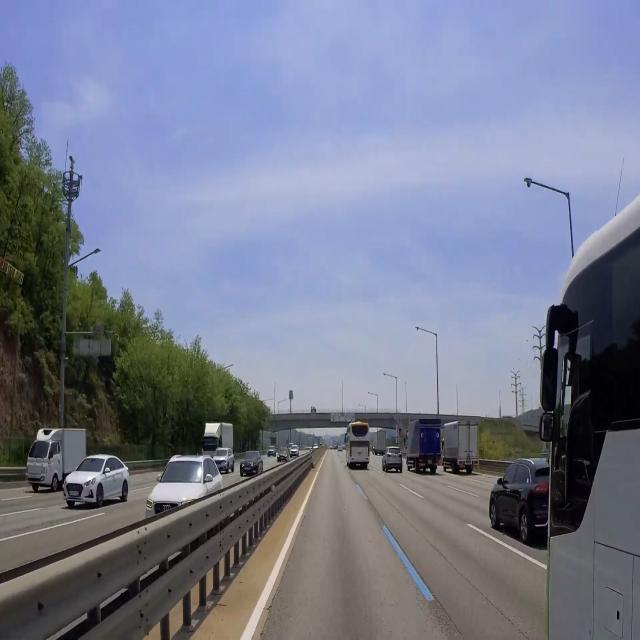car: (67, 487, 82, 501), (356, 449, 366, 466), (424, 457, 437, 469)
